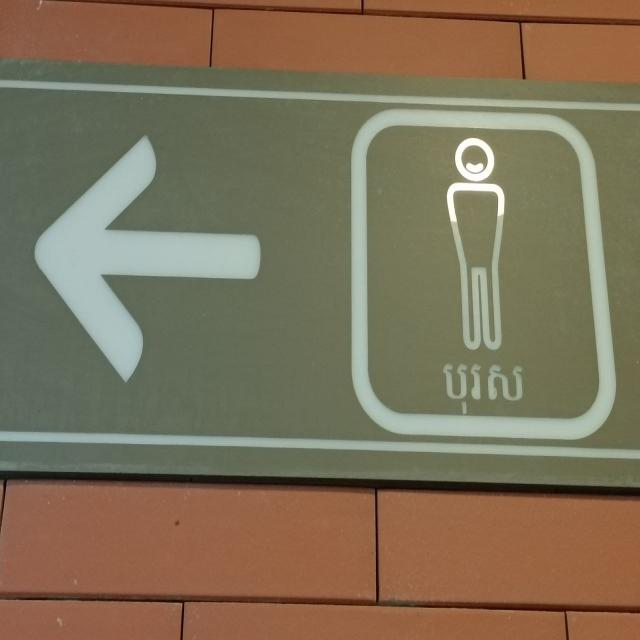Yolov11kh: (438, 350, 530, 418)
